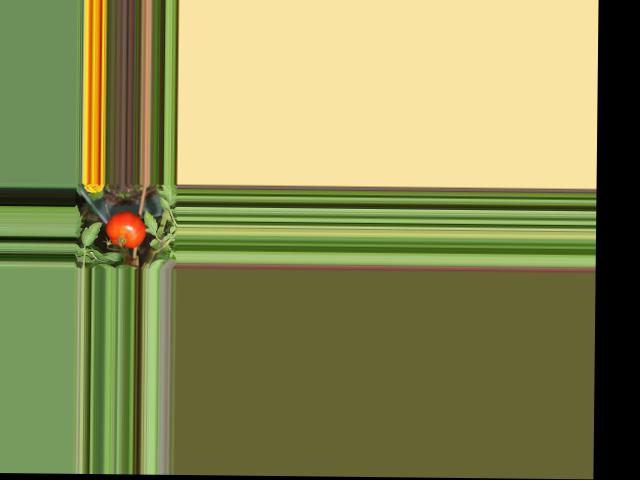tomato: (105, 211, 147, 248)
